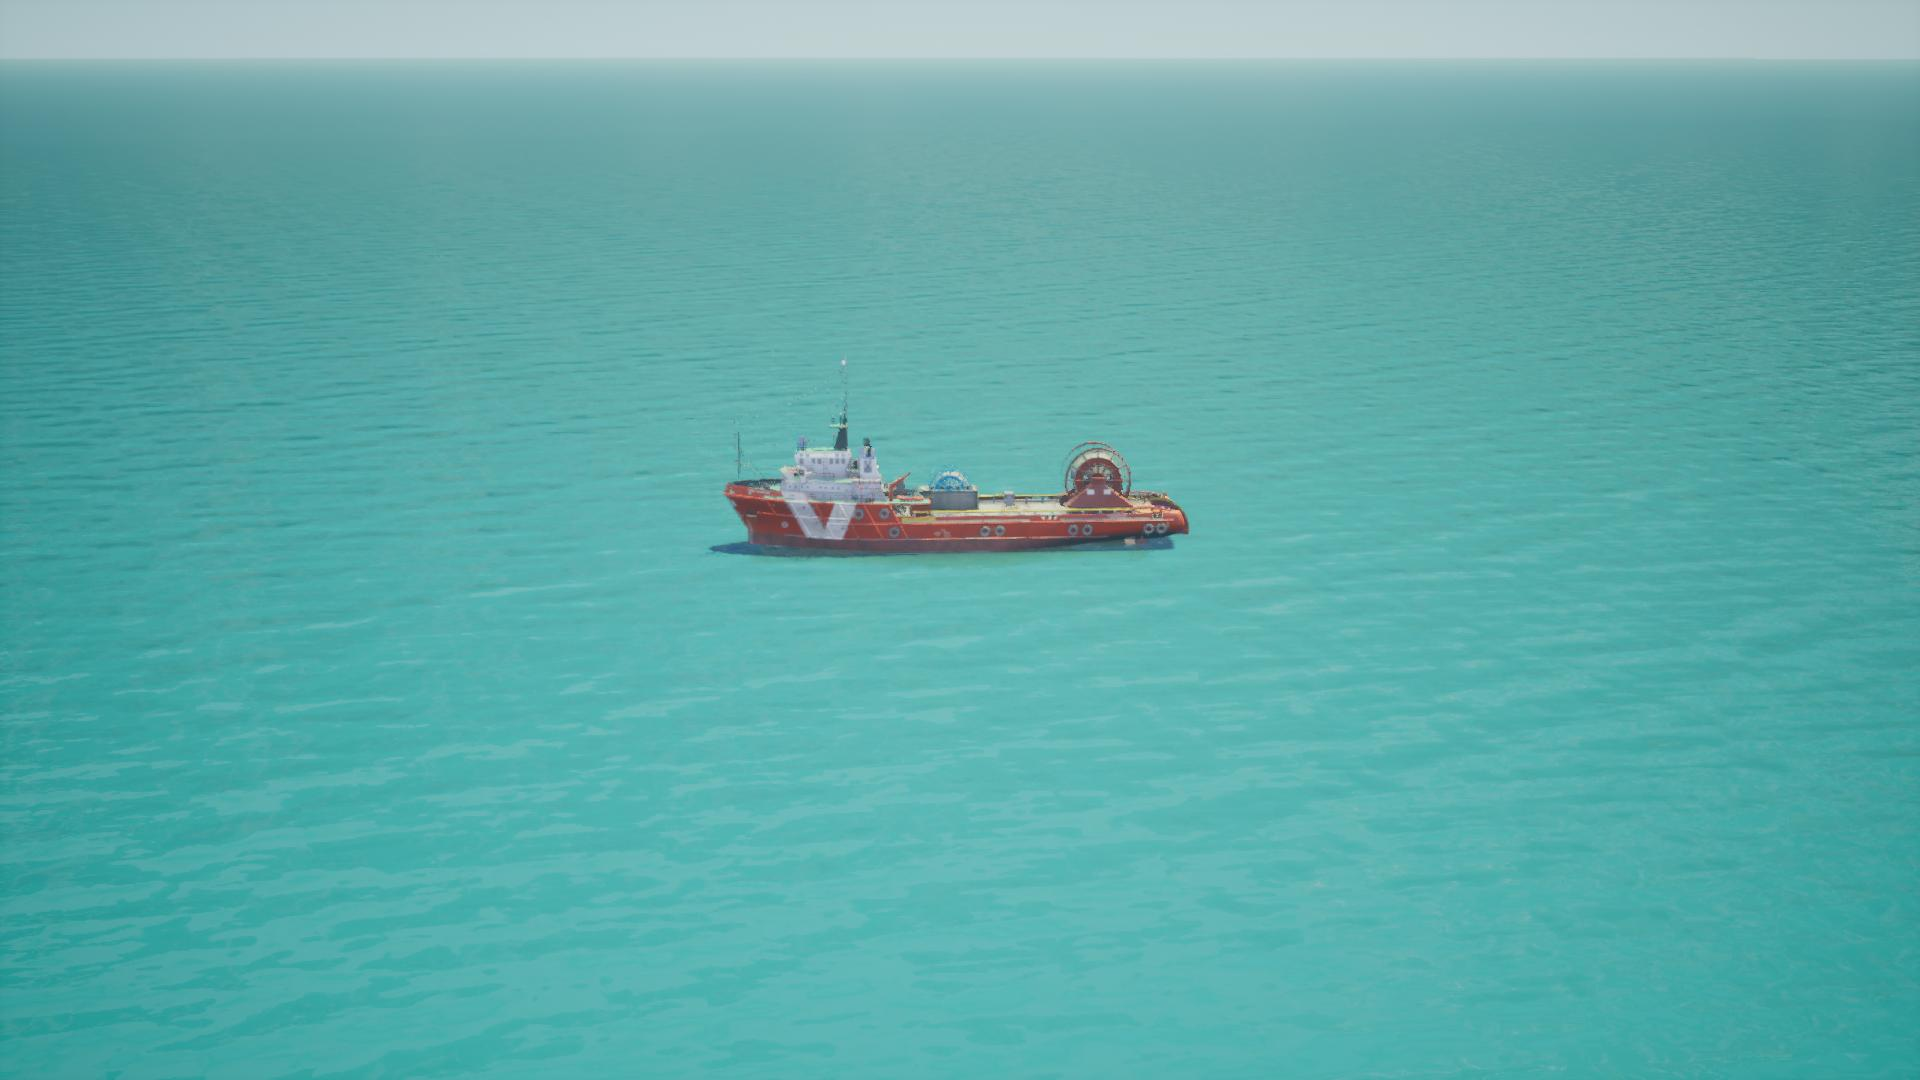Tug Boat: (712, 365, 1187, 562)
